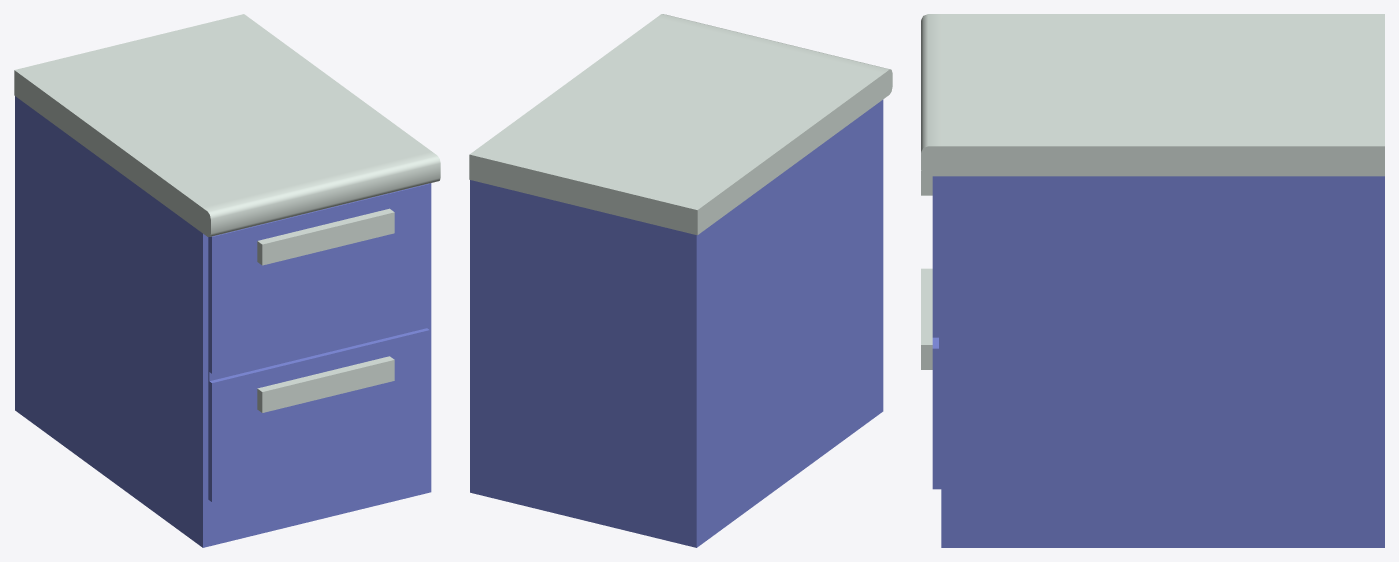
The model's file is KitchenTable_1.fbx.
The picture shows the model from 3 angles, left to right: view 1: azimuth 30°, elevation 25°; view 2: azimuth 150°, elevation 25°; view 3: azimuth 270°, elevation 25°; orthographic projection. The views are drawn at different scales.
Visible parts, largest first — view 1: Cube.009, Cube.010, Cube.011; view 2: Cube.009; view 3: Cube.009, Cube.011.
Part boxes in pixels (box(x1,y1,x2,y2)): Cube.009: box(14, 14, 440, 547); Cube.010: box(257, 208, 394, 265); Cube.011: box(257, 356, 394, 412); Cube.009: box(469, 14, 892, 547); Cube.009: box(921, 14, 1384, 547); Cube.011: box(921, 268, 932, 369).
Size of the model in its own units: 70.61 by 100 by 105.
